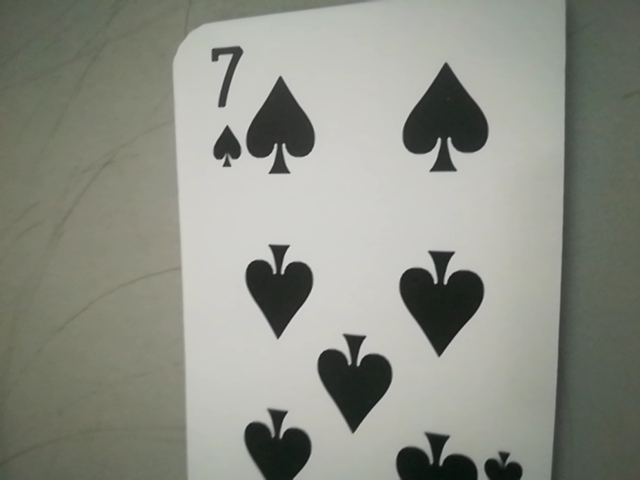ht 7: (191, 39, 250, 180)
